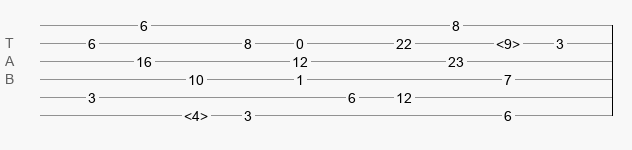0: (296, 36, 304, 46)
1: (296, 72, 304, 82)
10: (188, 72, 204, 82)
12: (292, 54, 308, 64), (396, 90, 412, 100)
16: (136, 54, 152, 64)
22: (396, 36, 412, 46)
23: (448, 54, 464, 64)
3: (88, 90, 96, 100), (244, 108, 252, 118), (556, 36, 564, 46)
6: (88, 36, 96, 46), (140, 18, 148, 28), (348, 90, 356, 100), (504, 108, 512, 118)
7: (504, 72, 512, 82)
8: (244, 36, 252, 46), (452, 18, 460, 28)
harmonic: (184, 108, 208, 118), (496, 36, 520, 46)
